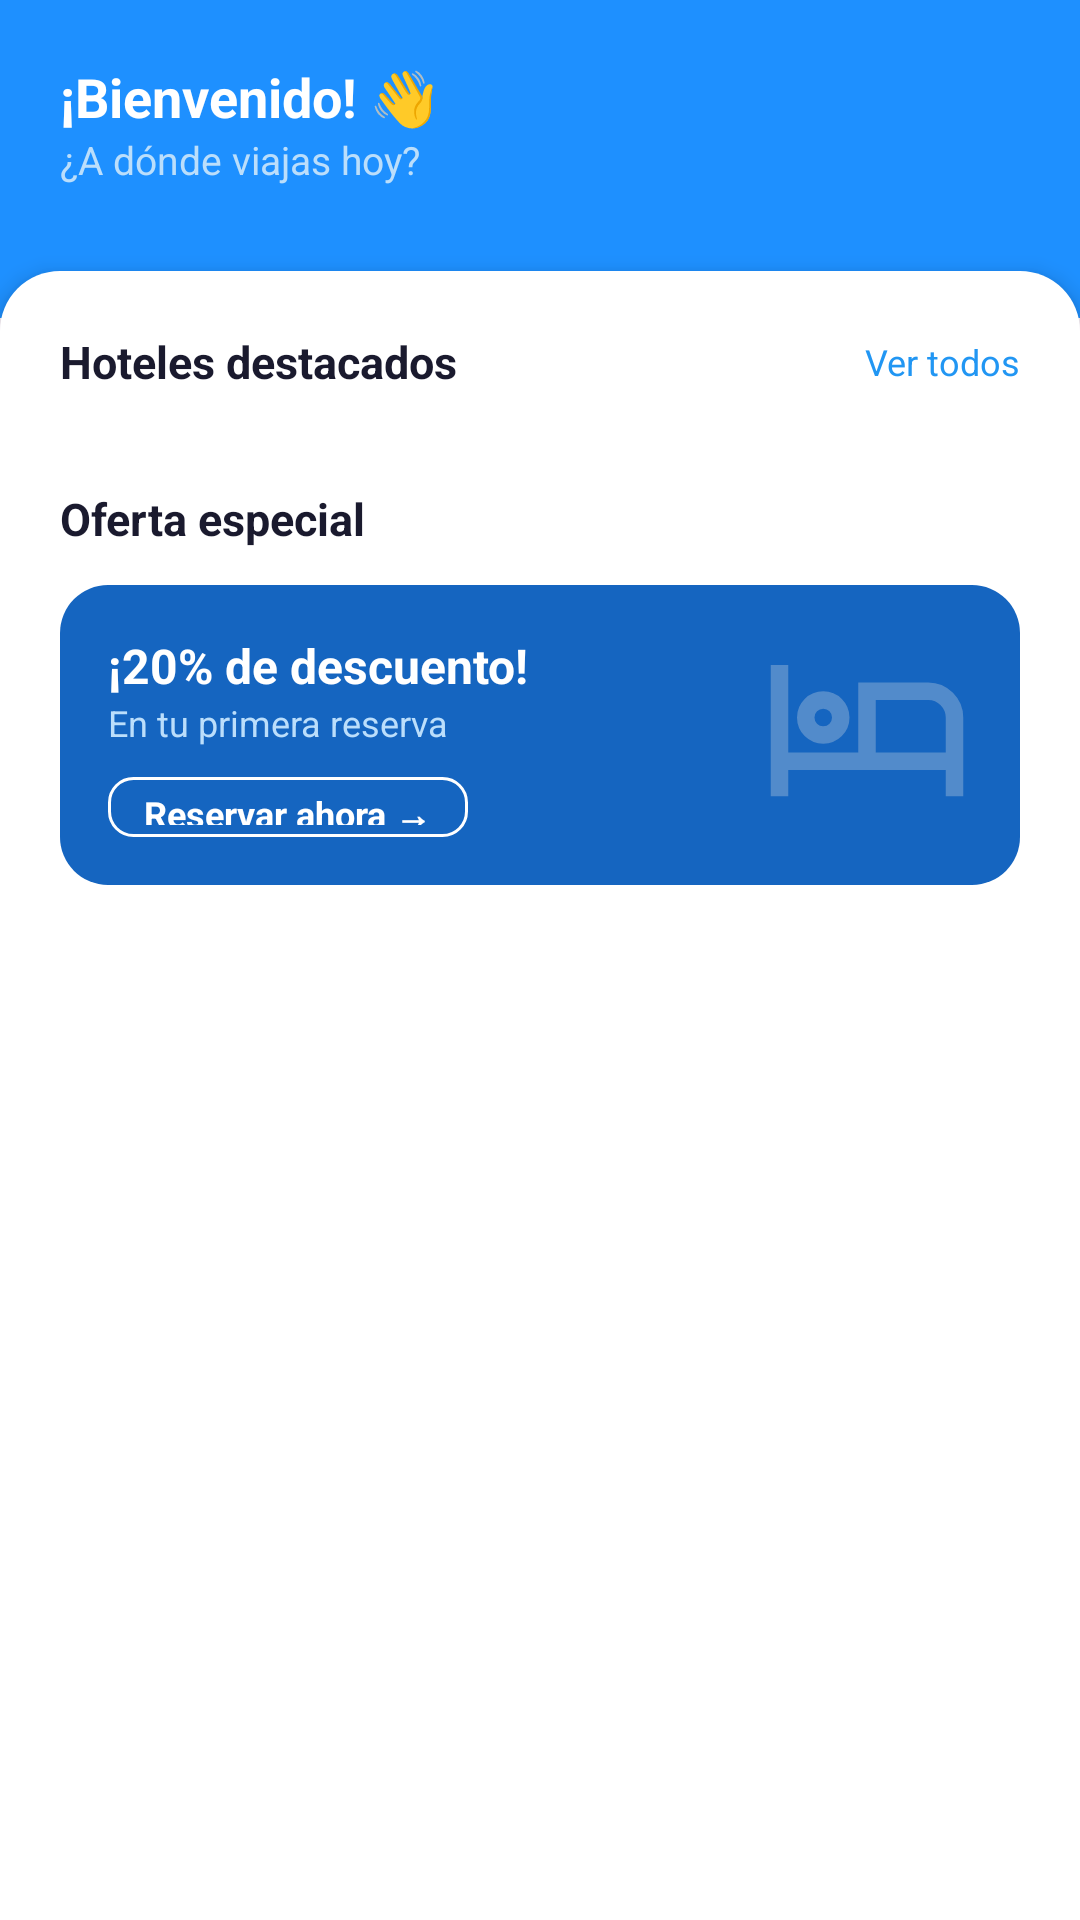

Icons on this 1080w x 1920h Android screen, each with the point to tap as (x,y):
Hotel: (867,730)
